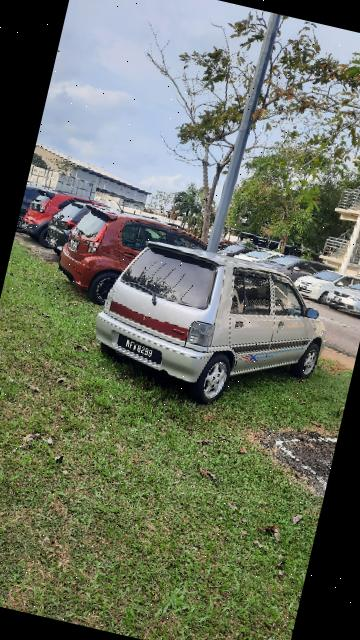License_Plate: (109, 331, 170, 372)
car: (82, 229, 341, 427), (52, 198, 221, 321), (290, 250, 360, 321)
